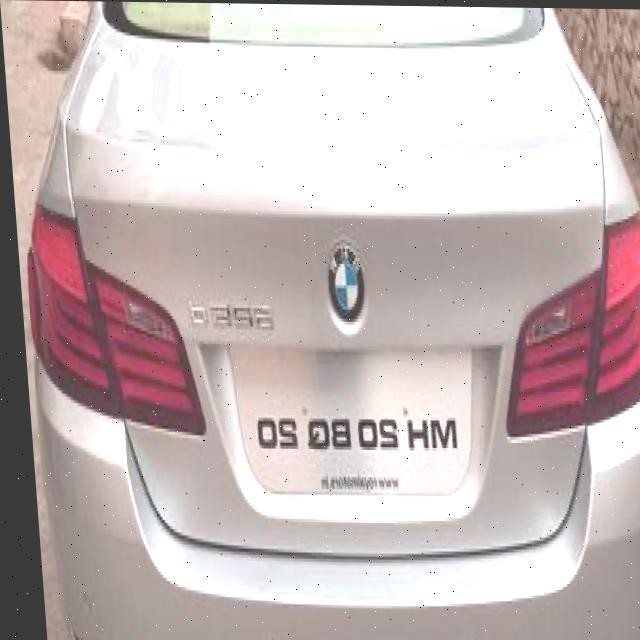plate: (221, 343, 474, 498)
